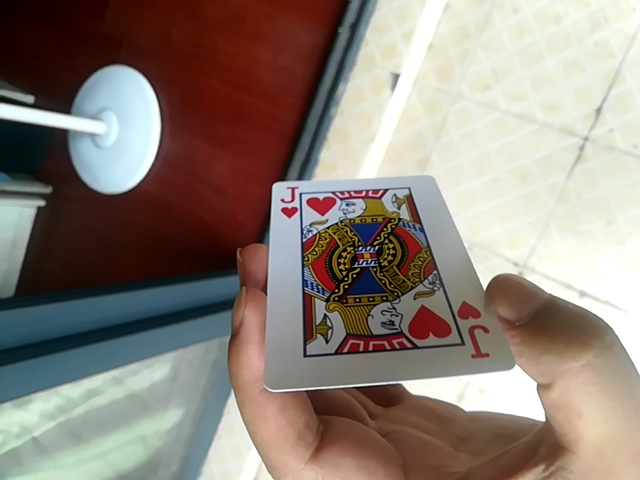hx j: (262, 172, 506, 388)
